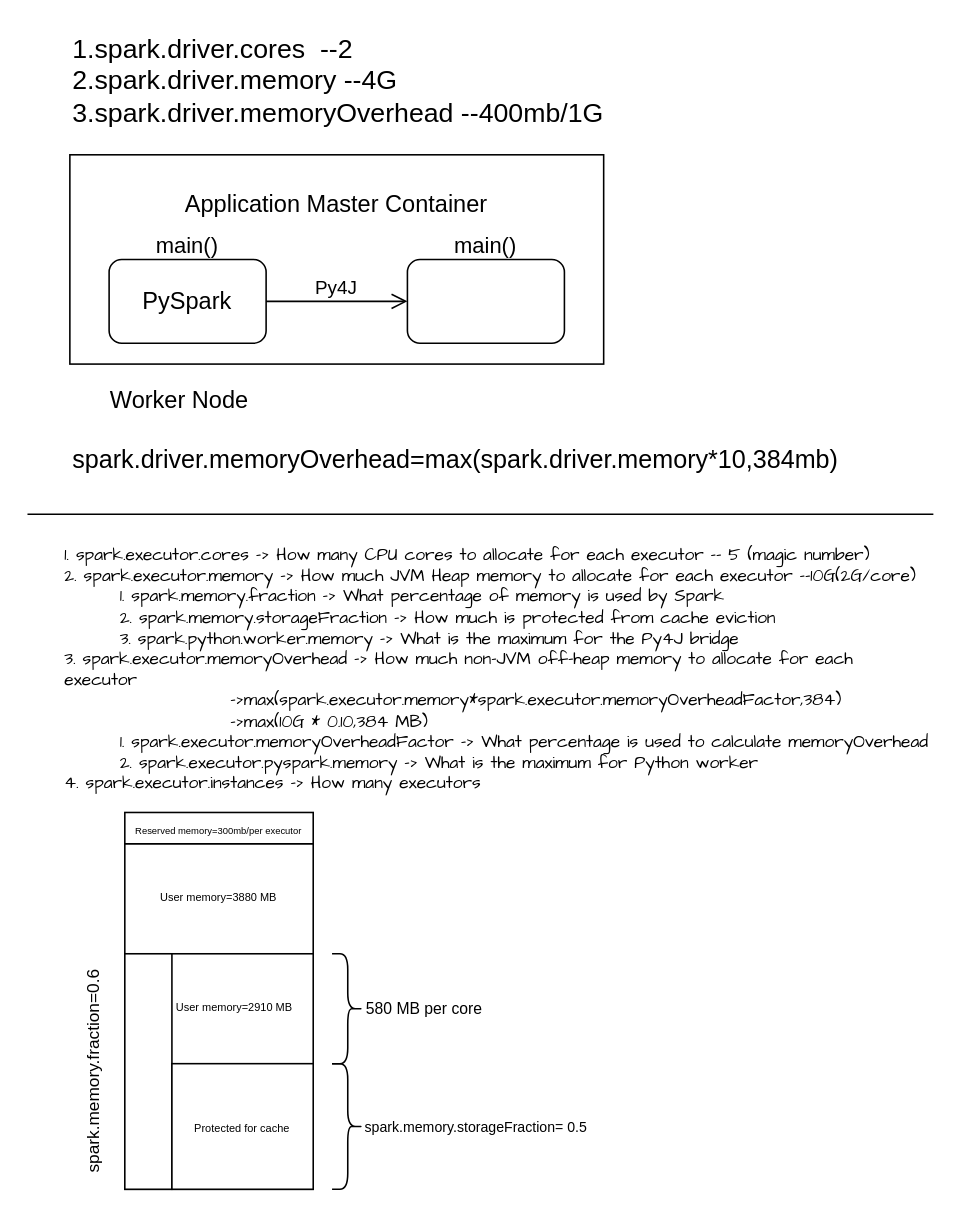
The diagram is 962 pixels wide and 1217 high, and some of its shapes have lost their labels. Each missing label, with the centre of its shape:
"JVM" goes at point 485,300.
"User memory=5820 MB" goes at point 147,1070.
